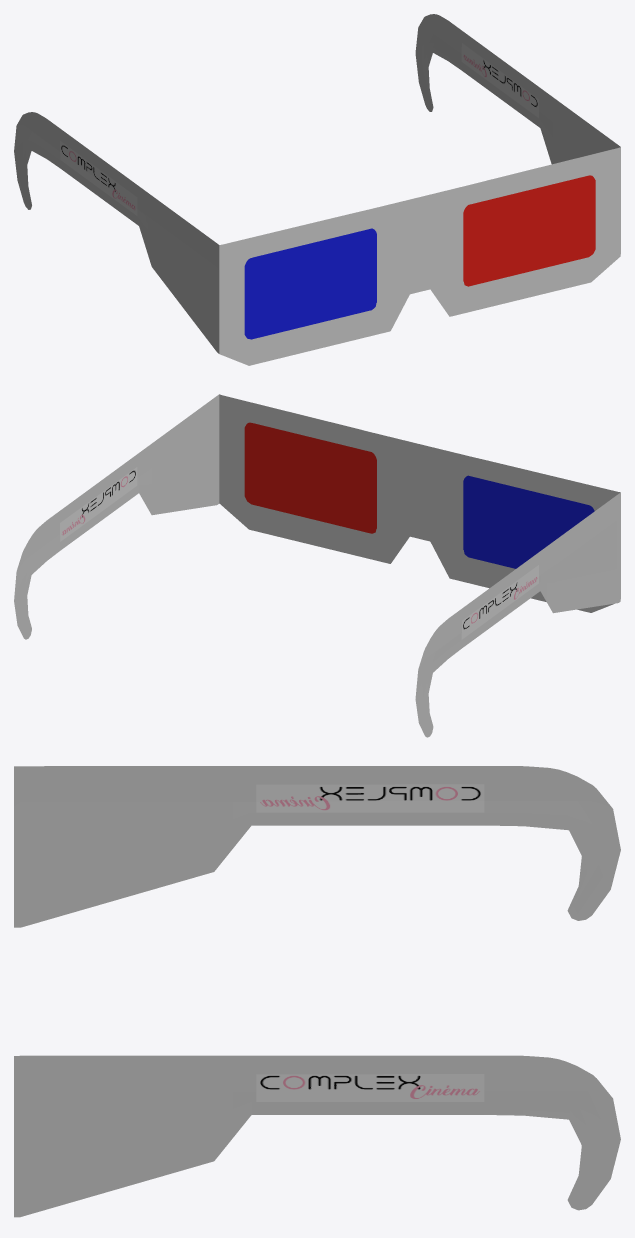
Rendered from basket.glb.
The picture shows the model from 3 angles, top to bottom: view 1: azimuth 30°, elevation 25°; view 2: azimuth 150°, elevation 25°; view 3: azimuth 270°, elevation 25°; orthographic projection. The views are drawn at different scales.
Parts seen in each view (by area): view 1: stereoglass; view 2: stereoglass; view 3: stereoglass.
Part boxes in pixels (box(x1,y1,x2,y2)): stereoglass: box(14, 14, 620, 365); stereoglass: box(14, 394, 620, 737); stereoglass: box(14, 766, 620, 1217).
Bounding box in the file's own units: 0.2663 × 0.0812 × 0.2359.
4 materials, 1 textured.
